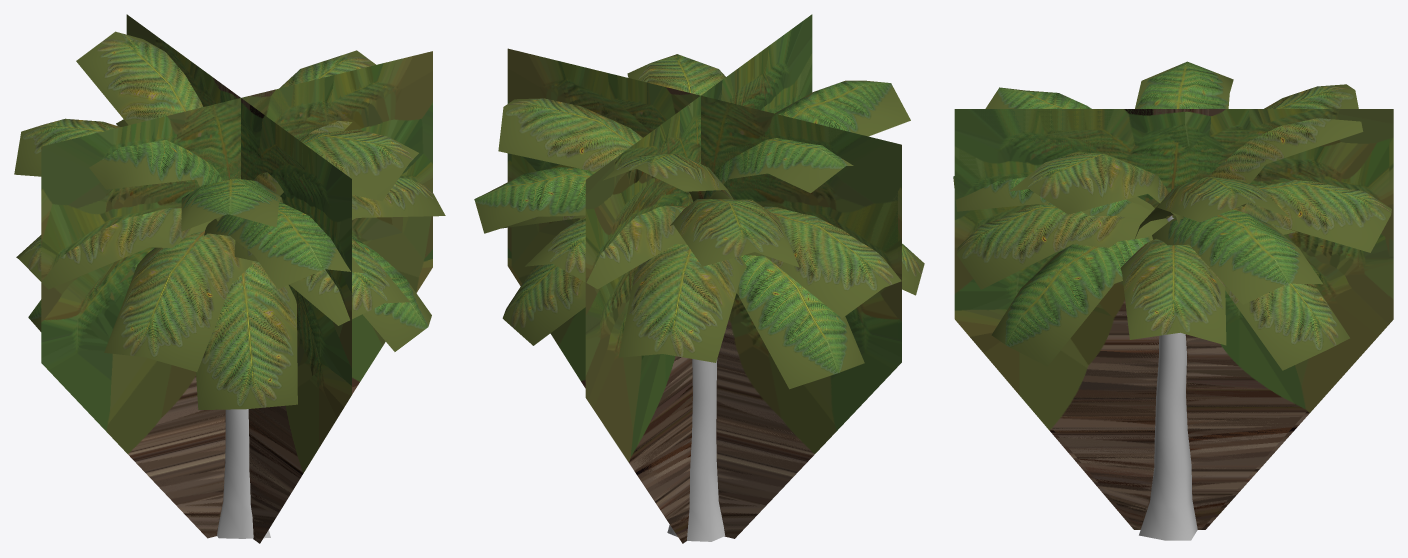
The model's file is Alsophila1.fbx.
3 views of the same model, side by side, from view 1: azimuth 30°, elevation 25°; view 2: azimuth 150°, elevation 25°; view 3: azimuth 270°, elevation 25° (orthographic). The views are drawn at different scales.
Visible parts, largest first — view 1: Billboard, LOD0; view 2: Billboard, LOD0; view 3: Billboard, LOD0.
Boxes of the visible parts, box(x1,y1,x2,y2) form: Billboard: box(41, 14, 432, 543); LOD0: box(14, 31, 445, 538); Billboard: box(507, 14, 901, 543); LOD0: box(474, 54, 924, 541); Billboard: box(954, 109, 1393, 529); LOD0: box(953, 61, 1391, 540).
Size of what is drawn, in the model's own units: 272 by 288 by 271.
